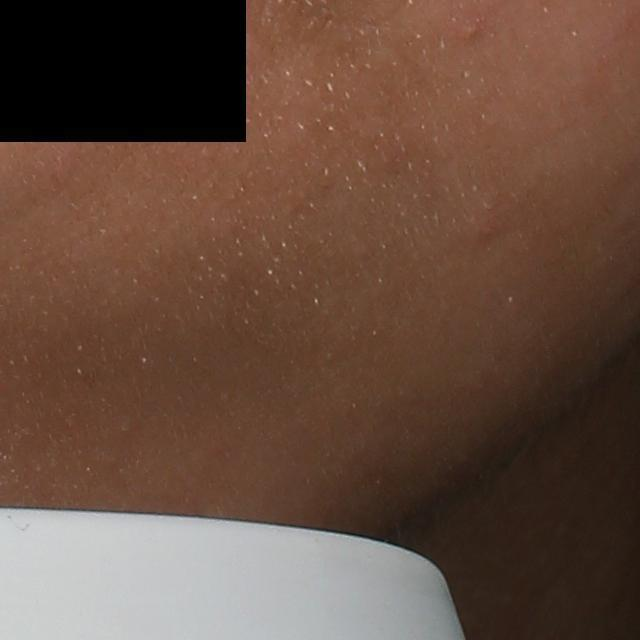comedo: (455, 17, 483, 43)
